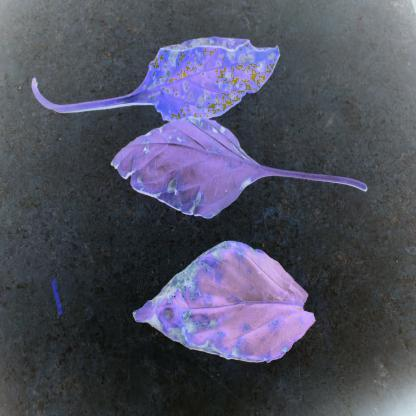Bell_pepper leaf: (118, 238, 320, 370), (106, 118, 278, 220), (122, 30, 287, 124)
